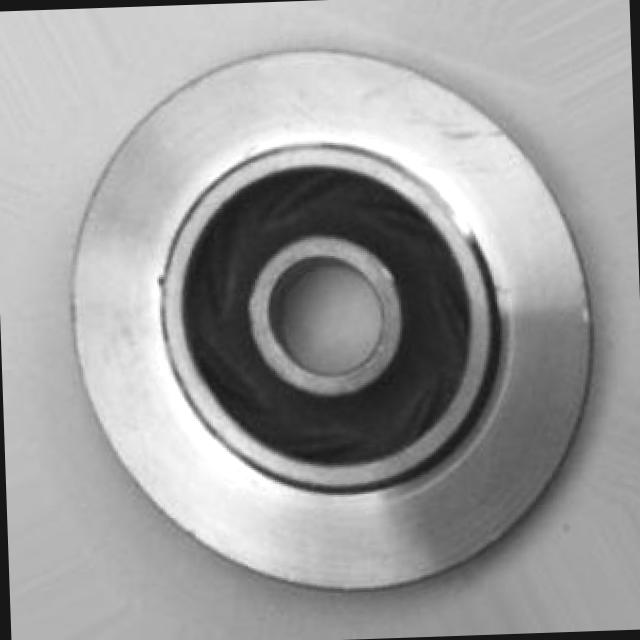Defect: (147, 267, 176, 292)
